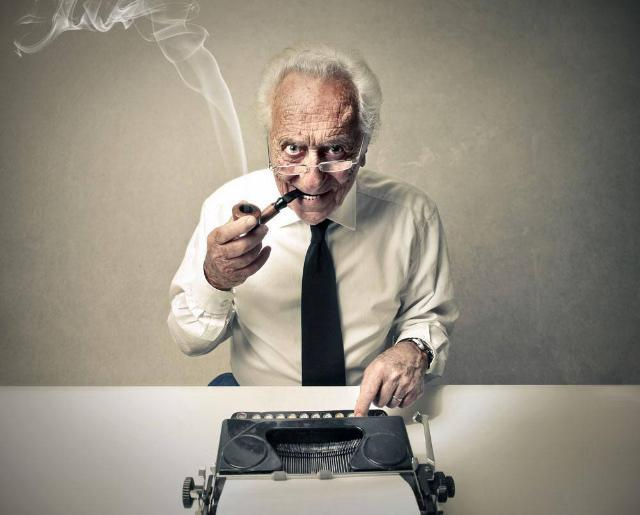Smoking: (232, 181, 300, 229)
